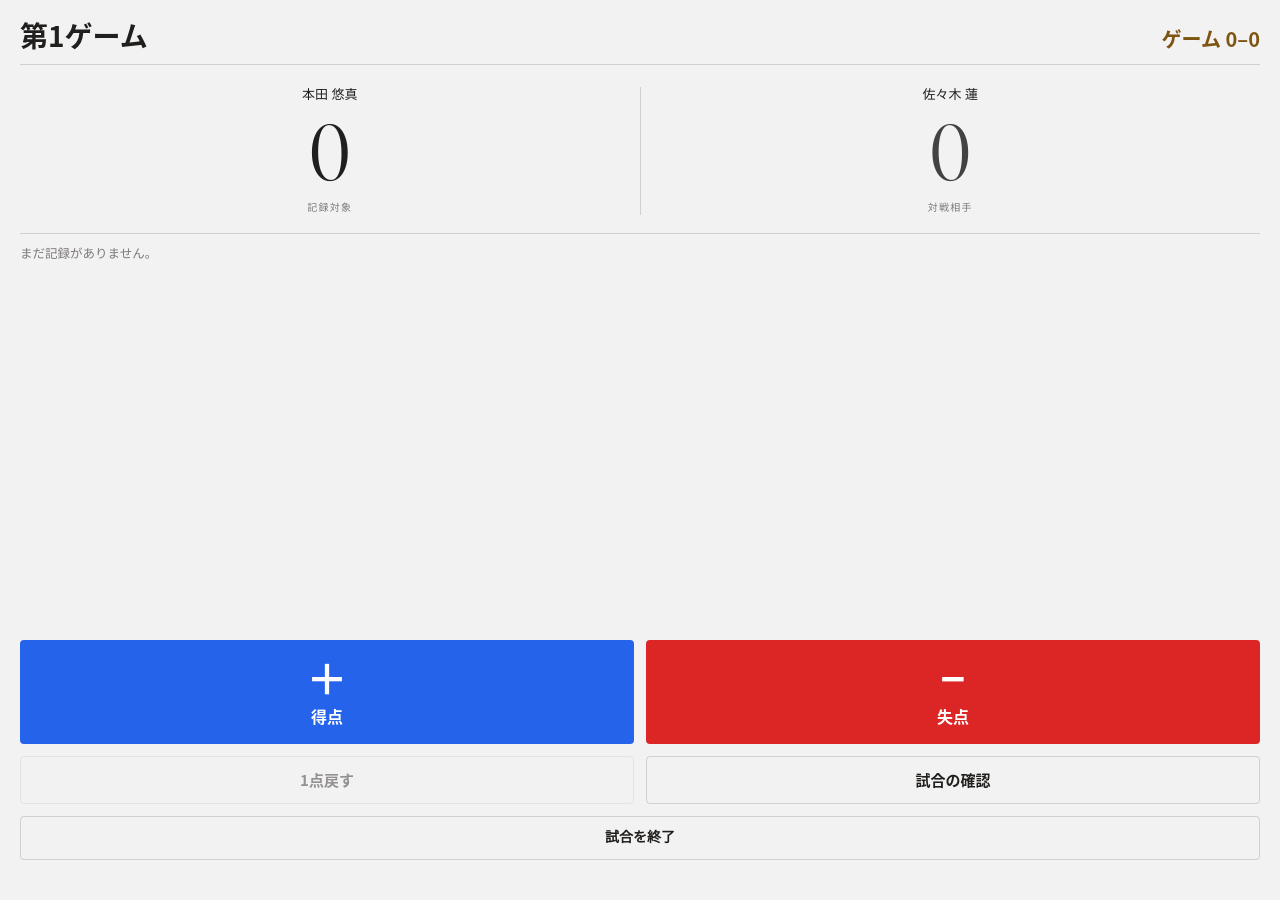
Test: early match end › leaves the recorded point in place when ending is cancelled
Click the button "＋ 得点" at (327, 692), box [20, 640, 634, 744]
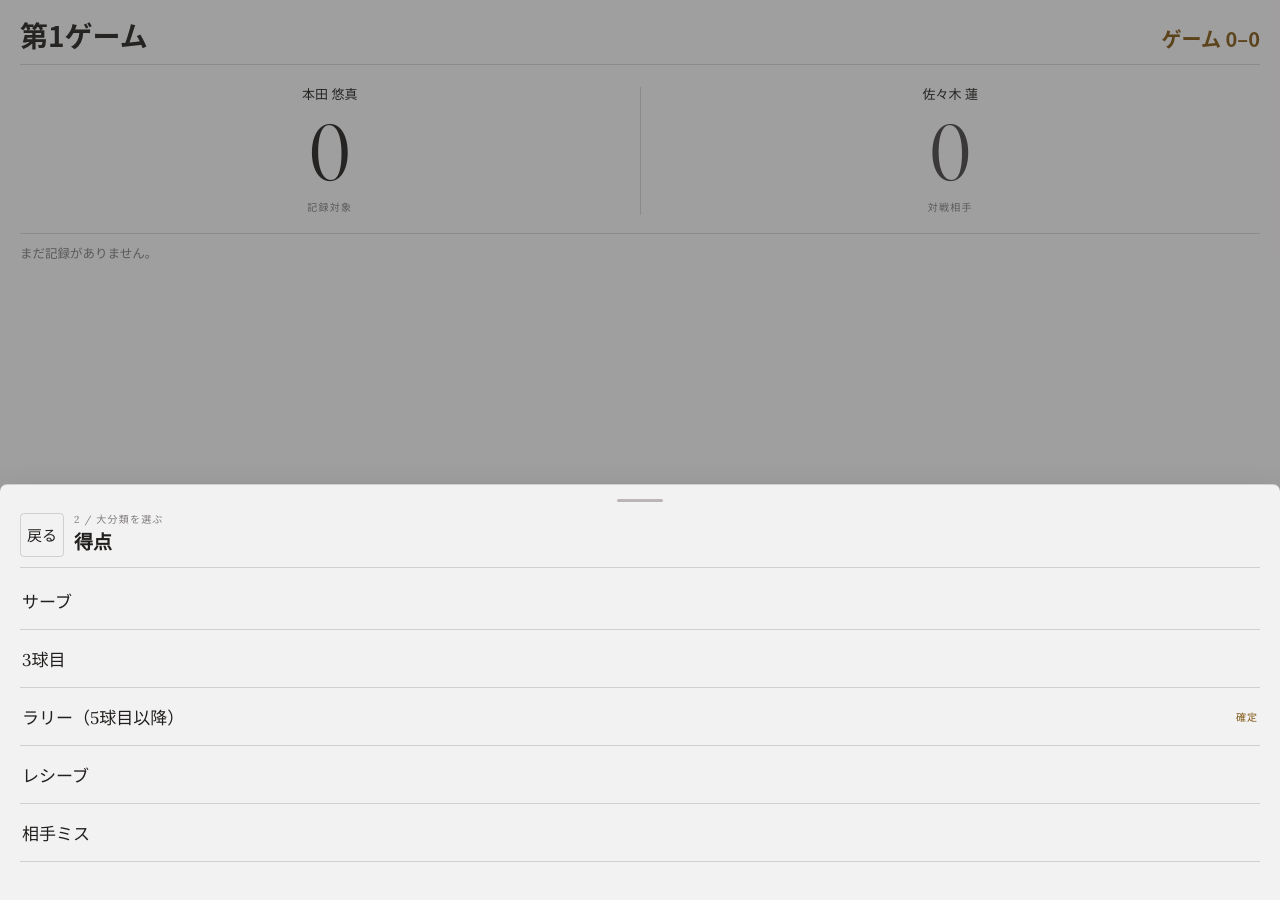
Click the button "ラリー（5球目以降） 確定" at (103, 718), box [20, 688, 1260, 746]
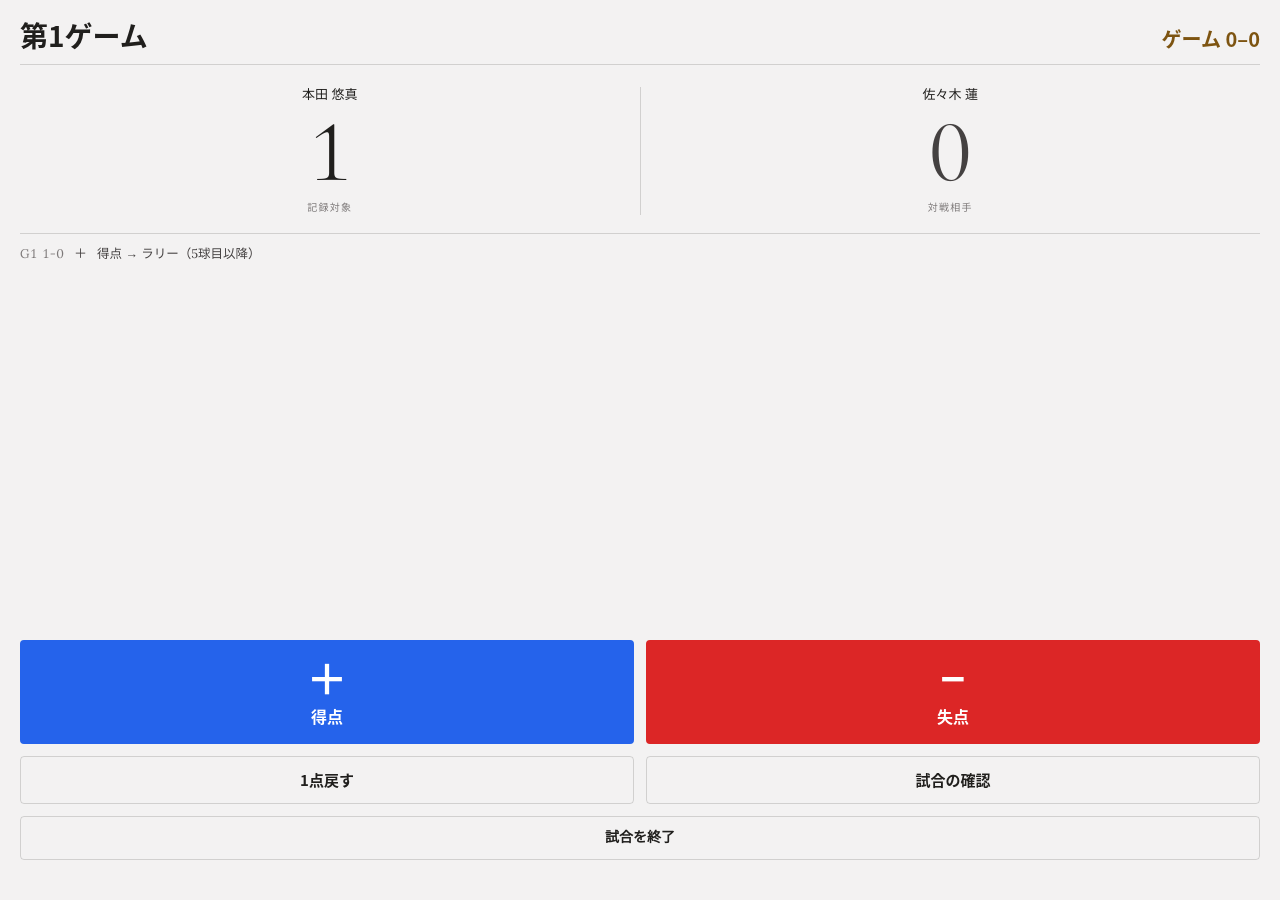
Click the button "試合を終了" at (640, 838), box [20, 816, 1260, 860]
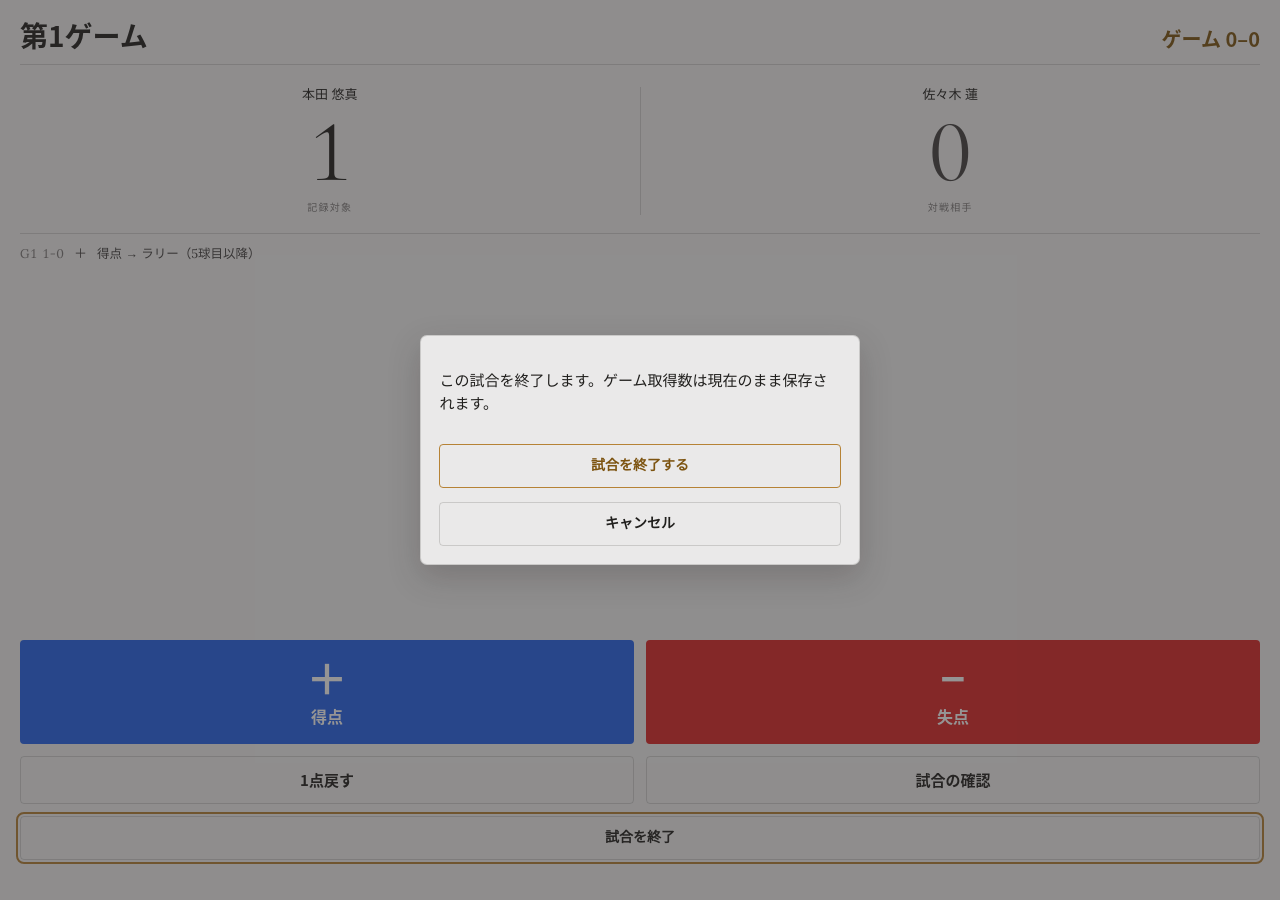
Click the button "キャンセル" at (640, 524), box [439, 502, 841, 546]
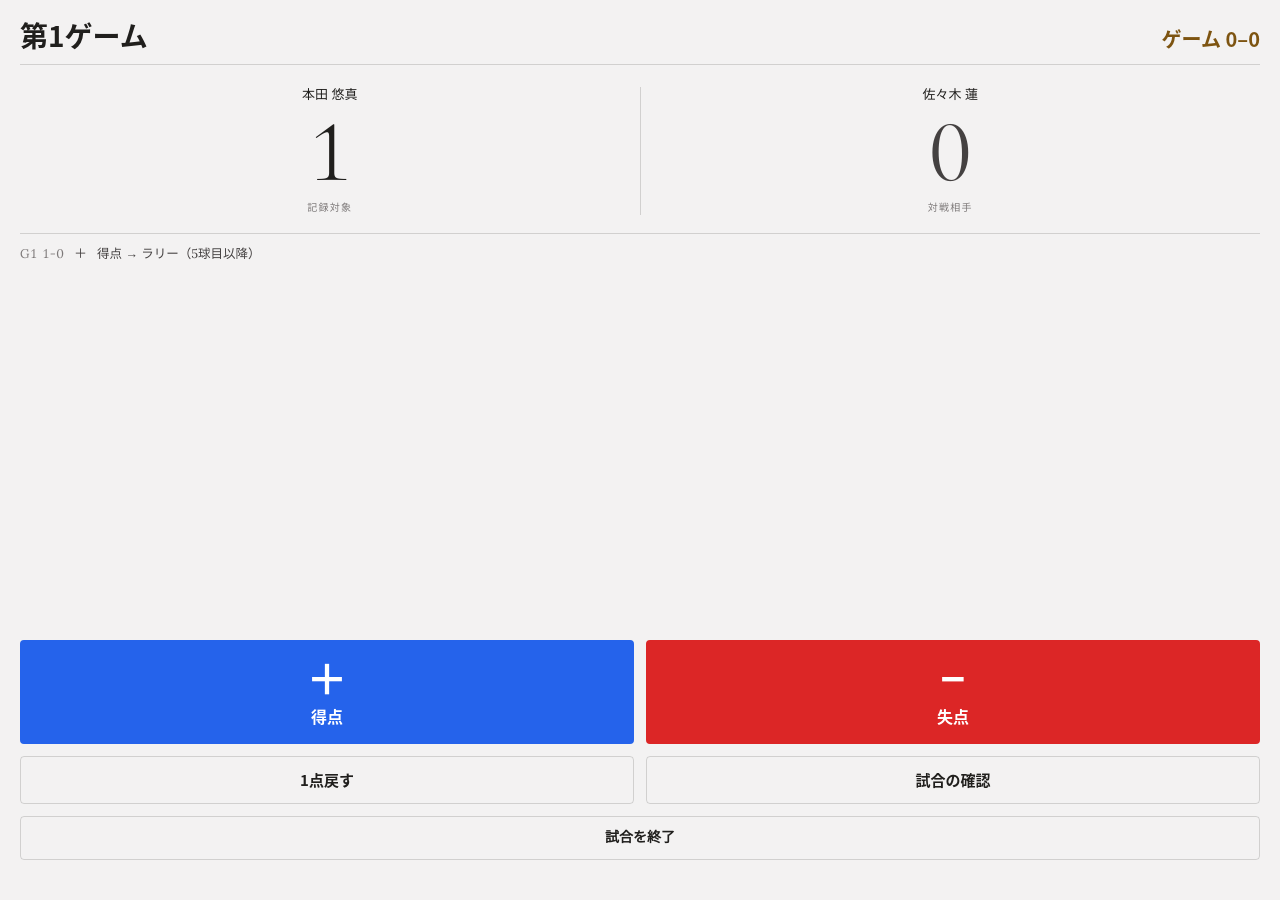
Expected: the text "G1 1-0" is shown, [20, 244, 64, 264]
Expected: the dialog "試合終了の確認" is gone
